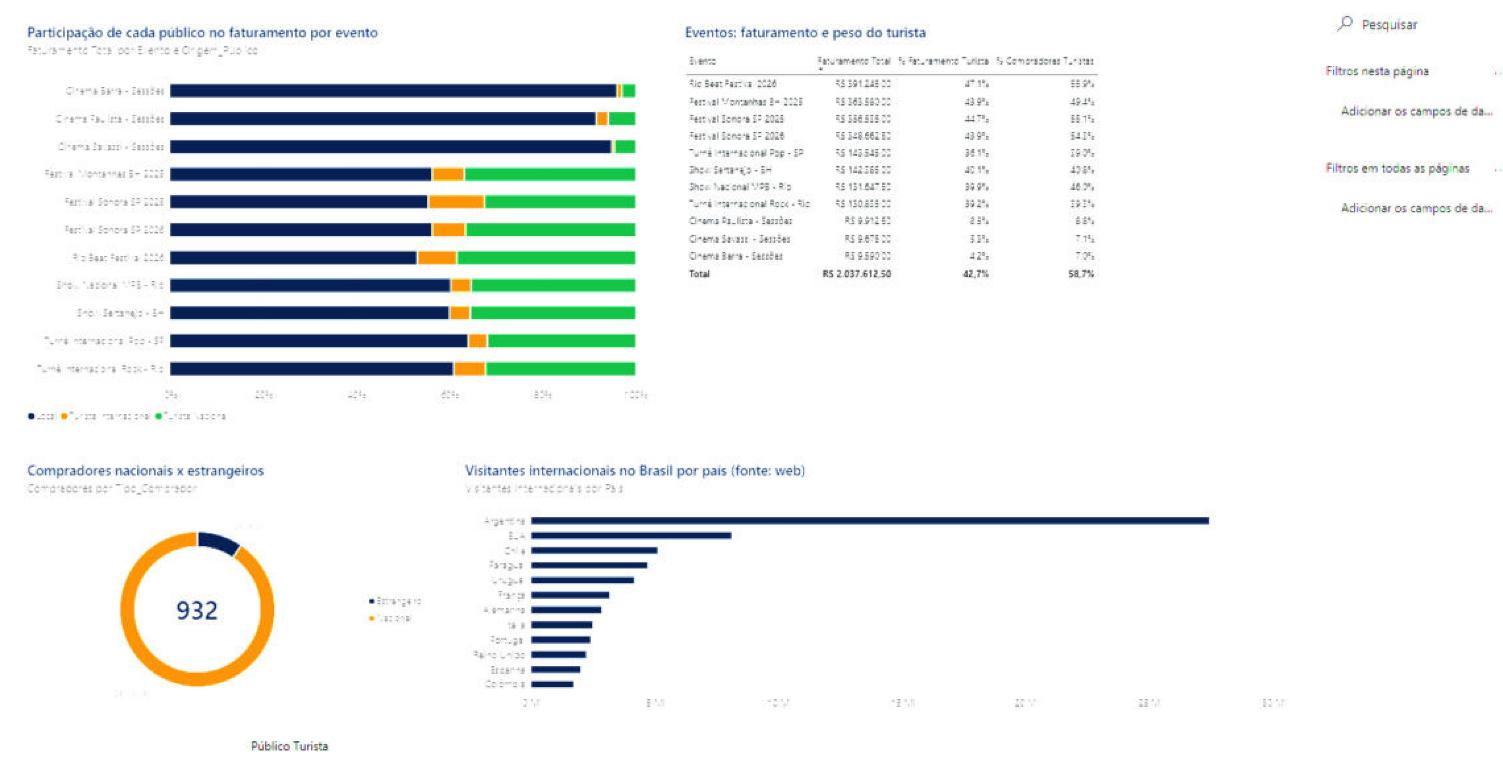

This screenshot's page, from the dashboard's own definition file:
{"tool":"powerbi","page":{"name":"Público Turista","canvas":[1920,1080],"ordinal":1},"visuals":[{"type":"hundredPercentStackedBarChart","title":"Participação de cada público no faturamento por evento","fields":{"Category":["Dim_Evento.Evento"],"Series":["Fato_Vendas_Ingressos.Origem_Publico"],"Y":["Fato_Vendas_Ingressos.Faturamento Total"]},"box":[20,20,940,620],"z":0},{"type":"tableEx","title":"Eventos: faturamento e peso do turista","fields":{"Values":["Dim_Evento.Evento","Fato_Vendas_Ingressos.Faturamento Total","Fato_Vendas_Ingressos.% Faturamento Turista","Fato_Vendas_Ingressos.% Compradores Turistas"]},"box":[980,20,920,620],"z":0},{"type":"donutChart","title":"Compradores nacionais x estrangeiros","fields":{"Category":["Dim_Comprador.Tipo_Comprador"],"Y":["Fato_Vendas_Ingressos.Compradores"]},"box":[20,660,620,400],"z":0},{"type":"barChart","title":"Visitantes internacionais no Brasil por país (fonte: web)","fields":{"Category":["Fato_Visitantes_Internacionais.Pais"],"Y":["Fato_Vendas_Ingressos.Visitantes Internacionais"]},"box":[660,660,1240,400],"z":0}]}

Visuals, with their boxes on the page's 1920x1080 design canvas (x1, y1, x2, y2). These are canvas units, not pixel positions in the 1503x765 screenshot, which may show the page scaled, cropped or inside an application window:
"Participação de cada público no faturamento por evento" hundredPercentStackedBarChart: crop(20, 20, 960, 640)
"Eventos: faturamento e peso do turista" tableEx: crop(980, 20, 1900, 640)
"Compradores nacionais x estrangeiros" donutChart: crop(20, 660, 640, 1060)
"Visitantes internacionais no Brasil por país (fonte: web)" barChart: crop(660, 660, 1900, 1060)
